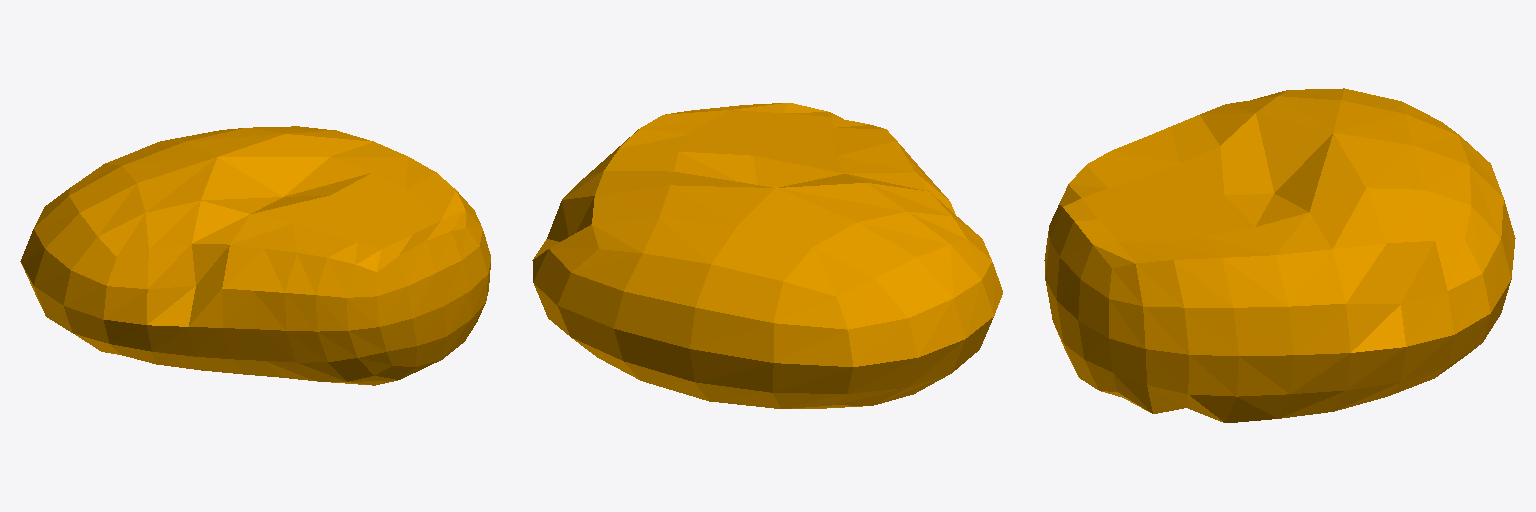
URDF robot description (gravity_description):
<?xml version="1.0"?>
<robot name="gravity_description">
  <link name="obstacle_base">
    <visual>
      <origin xyz="10 5 6" rpy="0 0 0"/>
      <geometry>
        <mesh filename="package://gravity_description/meshes/one_stone.dae"/>
      </geometry>
    </visual>
    <collision>
      <origin xyz="10 5 6" rpy="0 0 0"/>
      <geometry>
        <mesh filename="package://gravity_description/meshes/one_stone.dae"/>
      </geometry>
    </collision>
  </link>
</robot>

--- Facts derived from the render (not from the file) ---
Views: 3 orthographic renders of the robot side by side, from view 1: azimuth 30°, elevation 25°; view 2: azimuth 150°, elevation 25°; view 3: azimuth 270°, elevation 25°.
Model gravity_description with 1 links and 0 joints (none), rooted at obstacle_base, posed all joints at 0.
Visible links, largest first — view 1: obstacle_base; view 2: obstacle_base; view 3: obstacle_base.
Link boxes in pixels (x1,y1,x2,y2): obstacle_base: (20,126,490,385); obstacle_base: (532,103,1002,408); obstacle_base: (1044,88,1515,422).
Size in the robot's own frame: 0.4748 by 0.4289 by 0.2079 metres.
Meshes: 1 distinct files referenced, 1 mesh visuals loaded (1 Collada DAE).